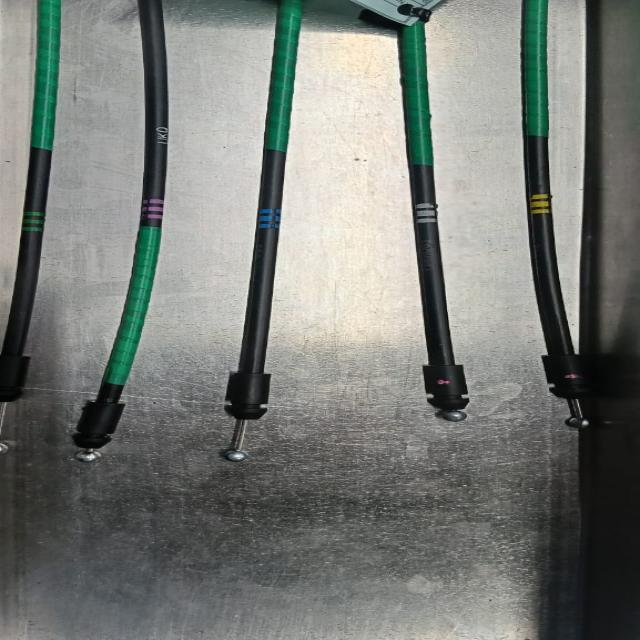blue: (258, 208, 282, 230)
green: (23, 211, 44, 232)
pink: (140, 199, 162, 220)
white: (412, 204, 436, 224)
yellow: (526, 194, 550, 214)
